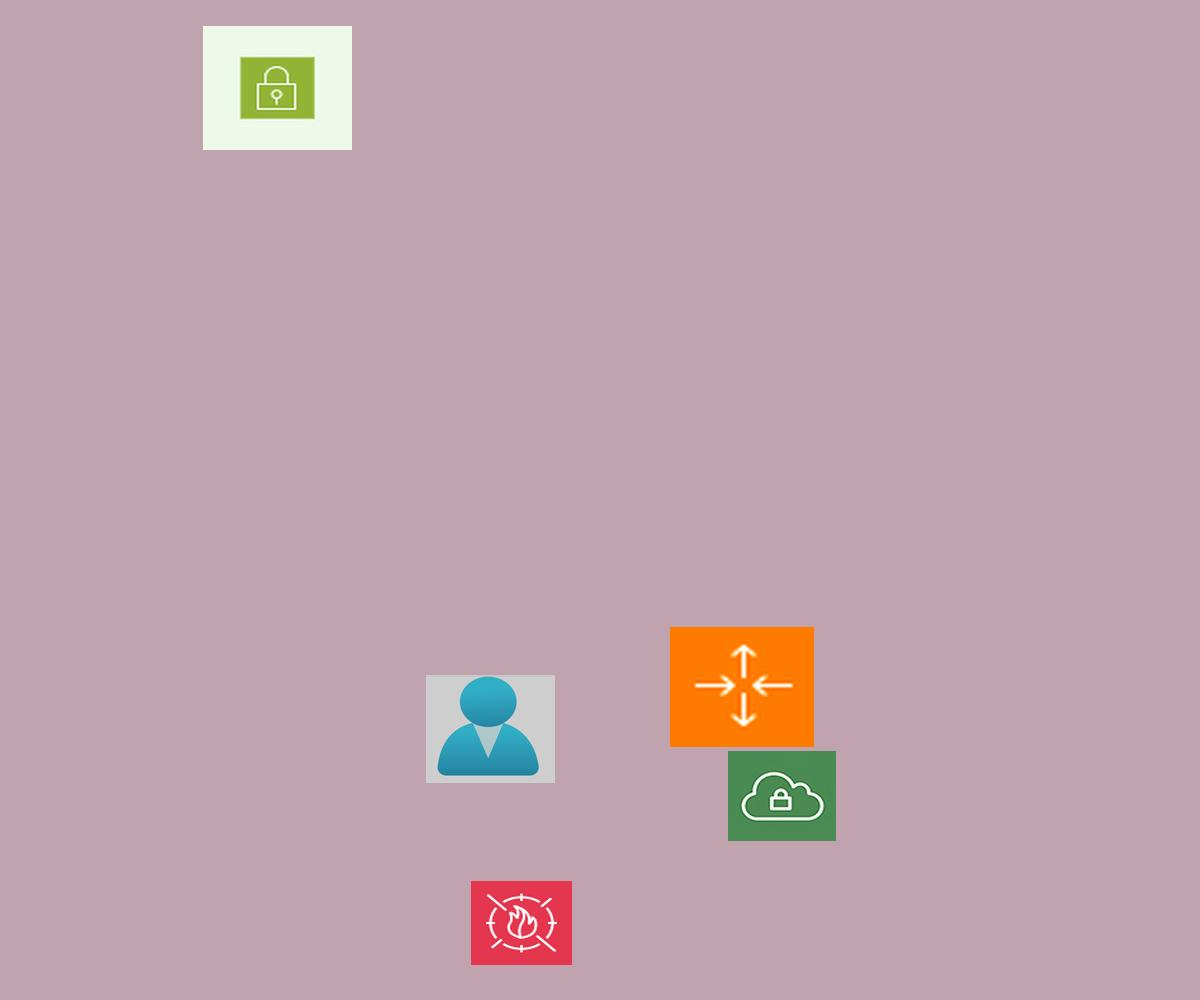AWS-Private_vpc: (728, 751, 836, 841)
AWS-Public-subnet: (203, 26, 352, 150)
AWS-Scaling-group: (670, 627, 814, 747)
AWS-WAF: (471, 881, 572, 965)
Azure_users: (426, 675, 555, 783)
